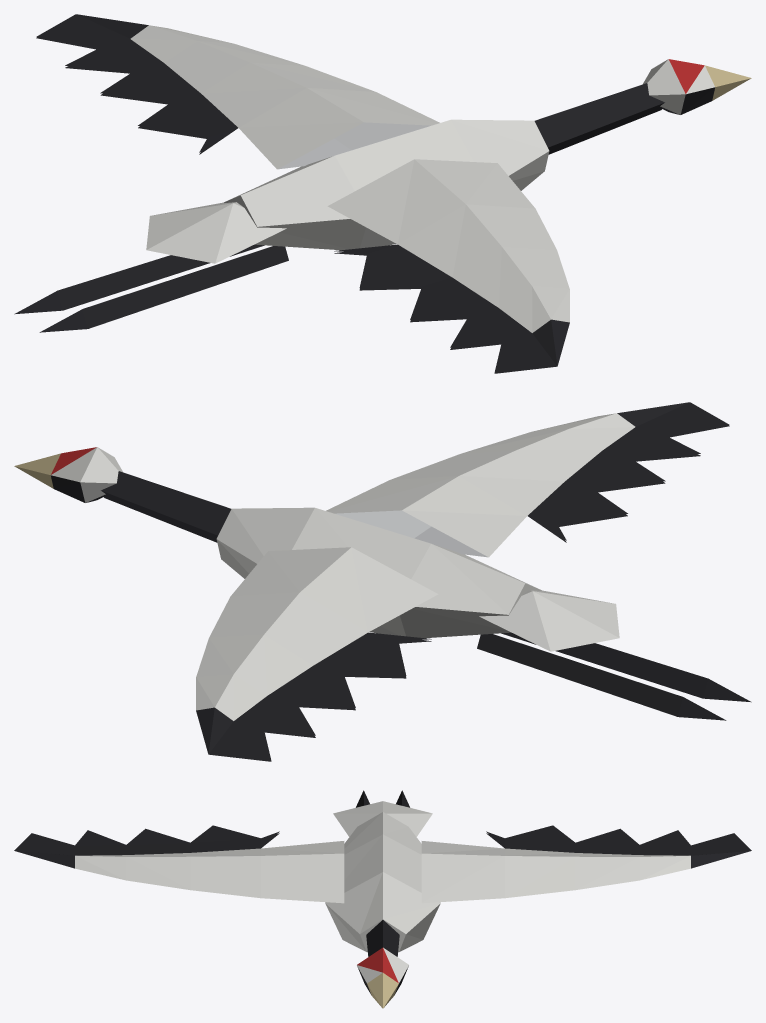
The model's file is crane.glb.
The picture shows the model from 3 angles, top to bottom: view 1: azimuth 30°, elevation 25°; view 2: azimuth 150°, elevation 25°; view 3: azimuth 270°, elevation 25°; orthographic projection. The views are drawn at different scales.
Visible parts, largest first — view 1: crane; view 2: crane; view 3: crane.
Boxes of the visible parts, left/top/right/bottom form: crane: left=14, top=14, right=751, bottom=373; crane: left=14, top=402, right=751, bottom=761; crane: left=14, top=790, right=751, bottom=1008.
Size of the model in its own units: 1 by 0.1459 by 1.15.
